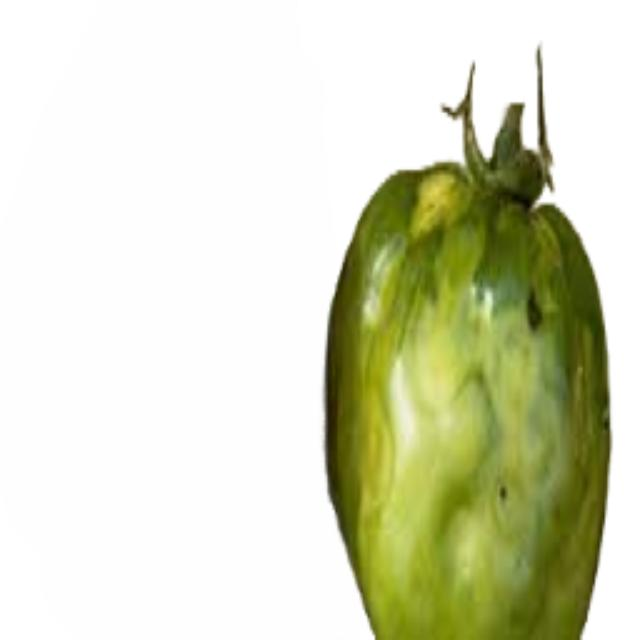defect: (312, 61, 639, 640)
